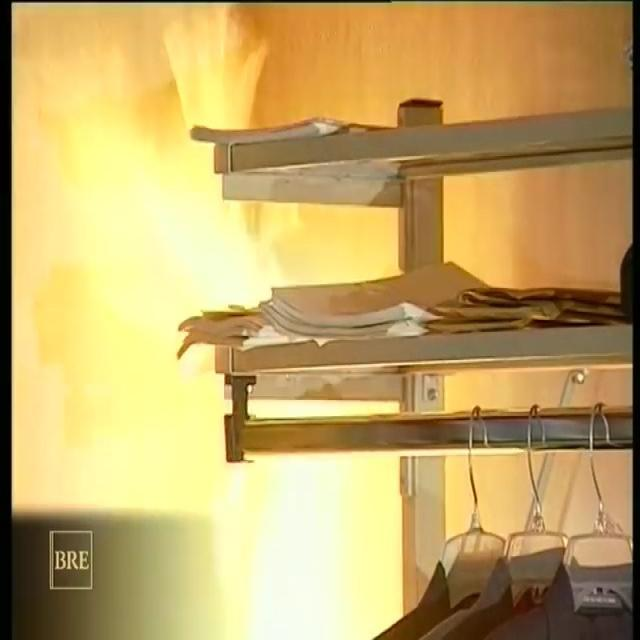Fire: (4, 0, 388, 620)
